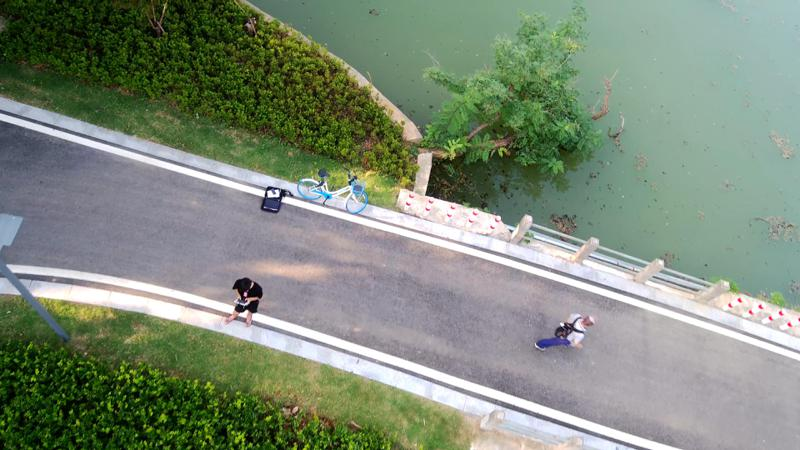passerby: (531, 311, 598, 352), (220, 276, 264, 328)
